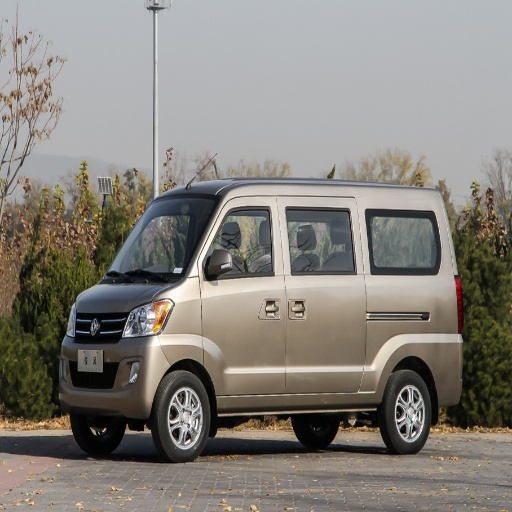front_bumper: (59, 308, 166, 417)
front_glass: (110, 194, 217, 279)
front_left_door: (201, 202, 286, 399)
front_left_light: (121, 297, 172, 339)
trunk: (323, 280, 459, 401)
